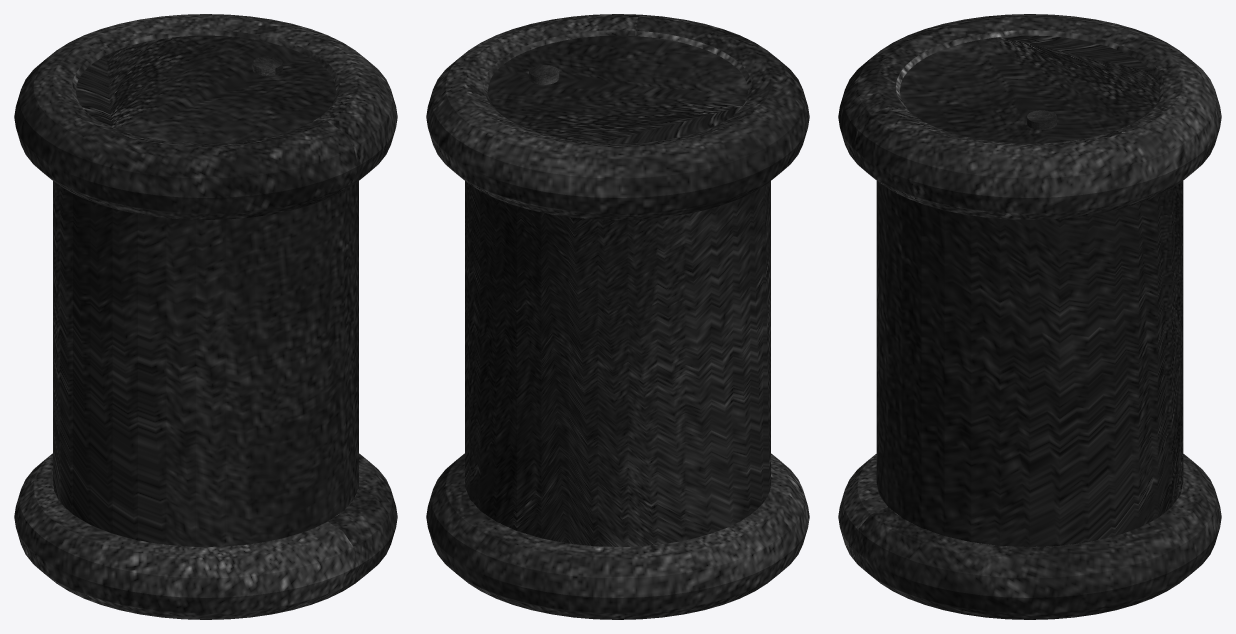
Rendered from bidon_.fbx.
3 views of the same model, side by side, from view 1: azimuth 30°, elevation 25°; view 2: azimuth 150°, elevation 25°; view 3: azimuth 270°, elevation 25° (orthographic).
Parts seen in each view (by area): view 1: Cylinder; view 2: Cylinder; view 3: Cylinder.
Boxes of the visible parts, x1=… form: Cylinder: x1=14, y1=14, x2=397, y2=619; Cylinder: x1=426, y1=14, x2=809, y2=619; Cylinder: x1=838, y1=14, x2=1221, y2=619.
Bounding box in the file's own units: 250 × 338 × 250.
Materials: 1 (1 with a texture image).
